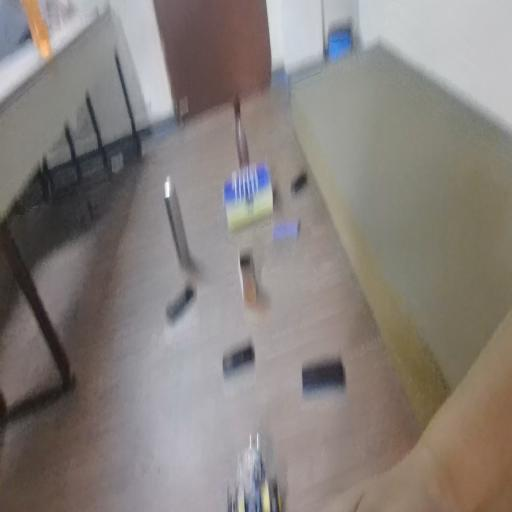Bottle: (224, 84, 253, 151)
car: (225, 434, 286, 506)
